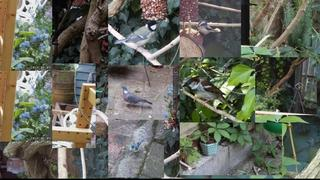blue tit: (129, 140, 144, 159)
great tit: (114, 20, 160, 54)
long tailed tit: (195, 20, 221, 38)
sparrow: (181, 77, 235, 111)
wood pigeon: (120, 85, 153, 107)
